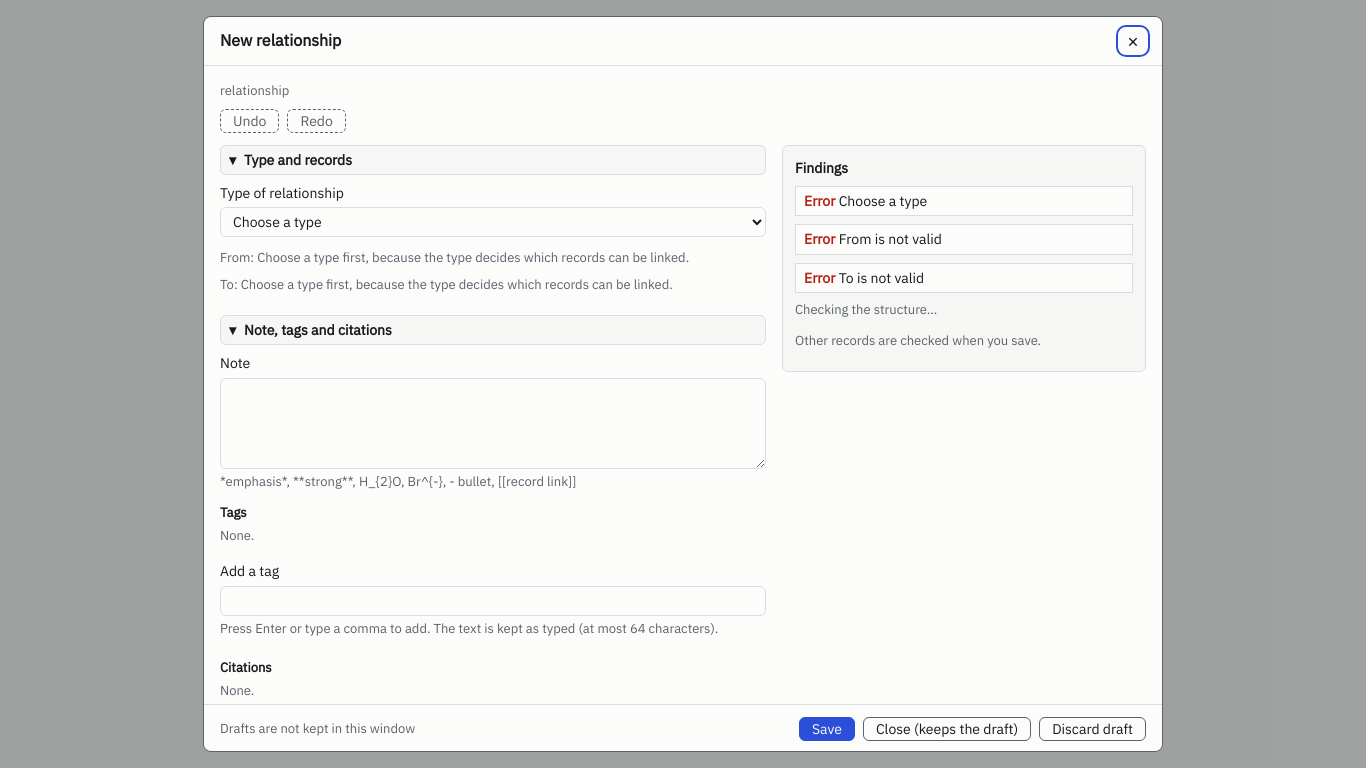
Scenario: a new relationship › has no type; the nine types are in plain words; the ends wait for a type; Save is refused until all are given
Check: the dropdown labelled "Type of relationship" shows "Choose a type", box [220, 207, 766, 237]
Check: the text "Choose a type first" is shown 2 times, box [220, 249, 766, 268]; [220, 276, 673, 293]
Step 1. Click the button "Save" → (827, 729), box [799, 717, 855, 741]
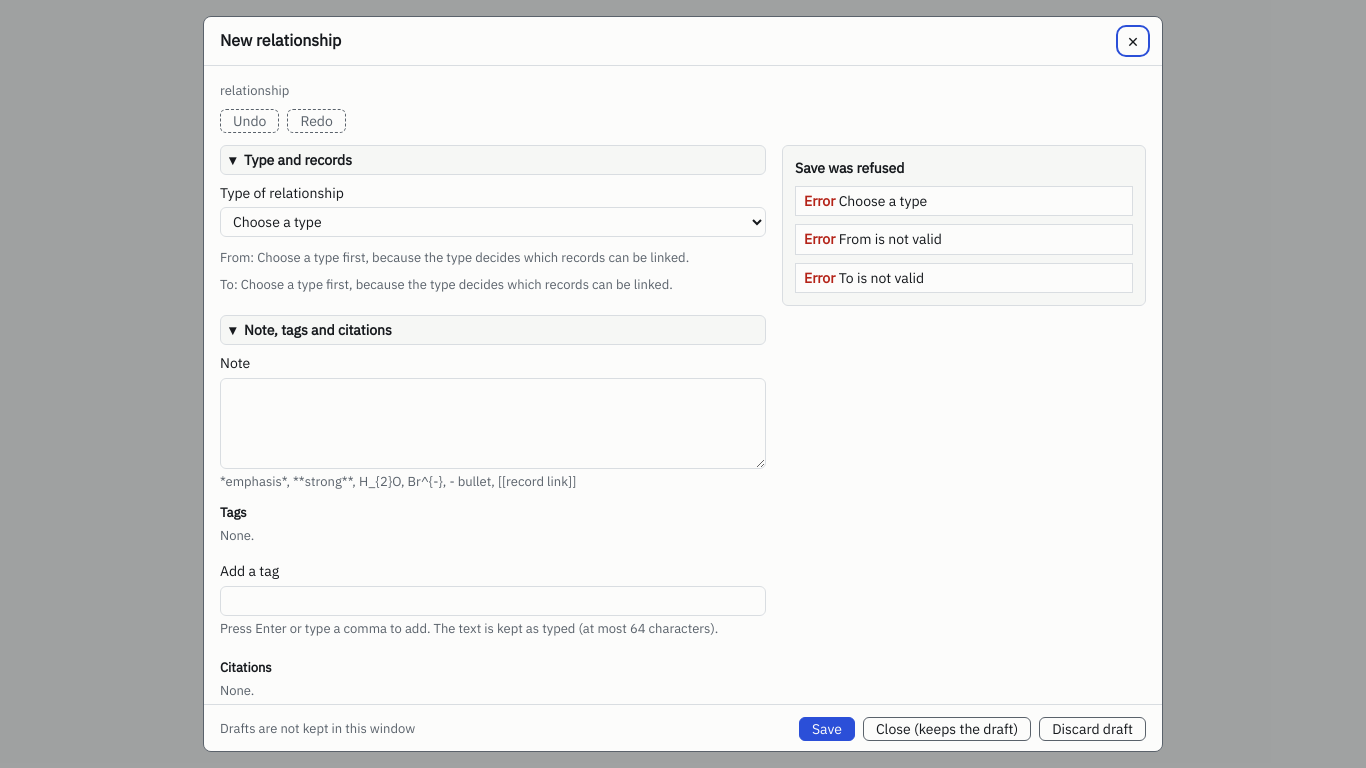
Check: the heading "Save was refused" is shown, box [795, 159, 904, 177]
